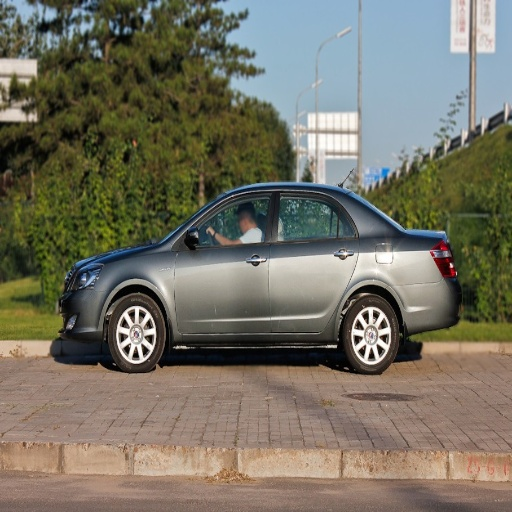back_left_door: (269, 189, 359, 332)
front_left_door: (177, 190, 276, 333)
